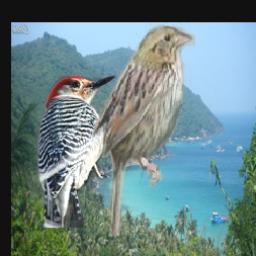Sparrow: (92, 23, 194, 237)
Woodpecker: (34, 66, 121, 228)
